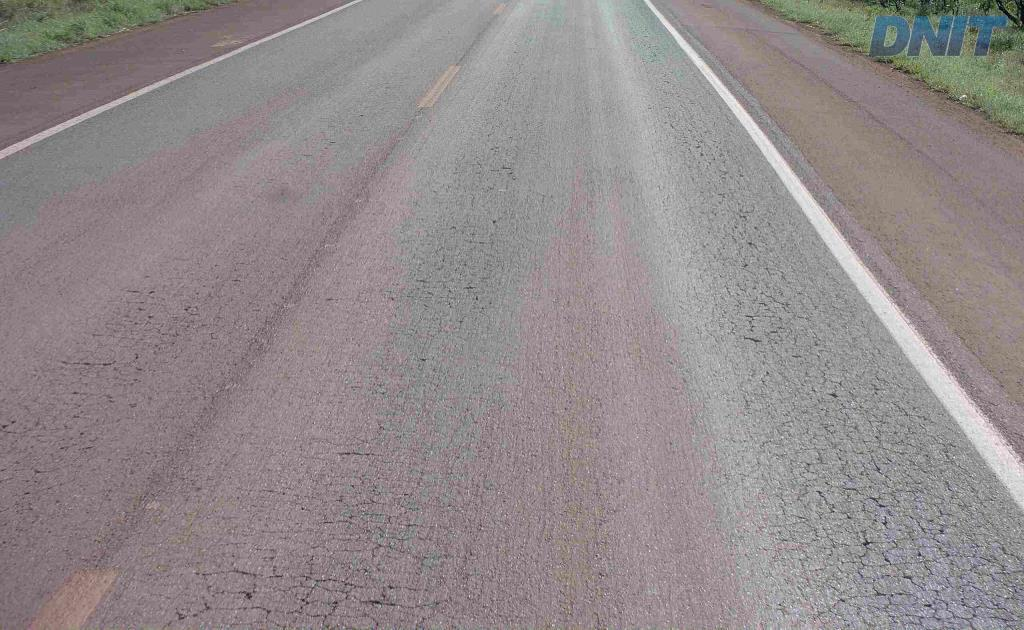crack: (967, 533, 1023, 598)
